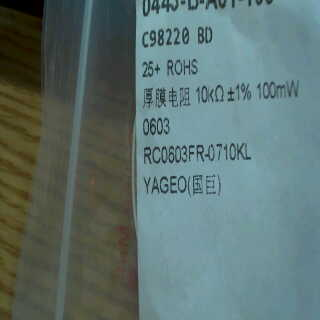10kR: (194, 82, 230, 108)
